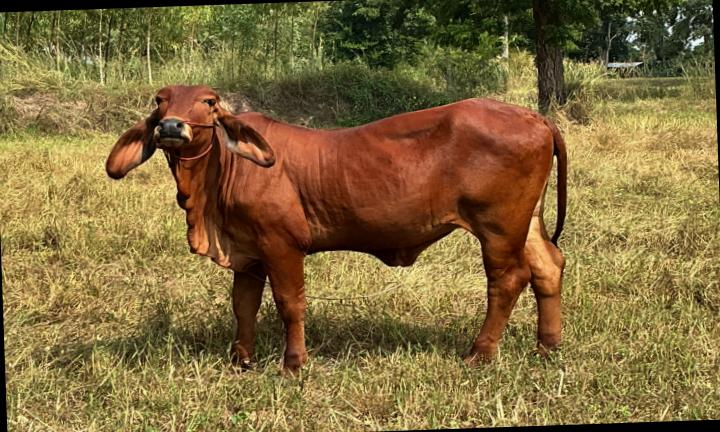Brahman: (107, 85, 567, 372)
